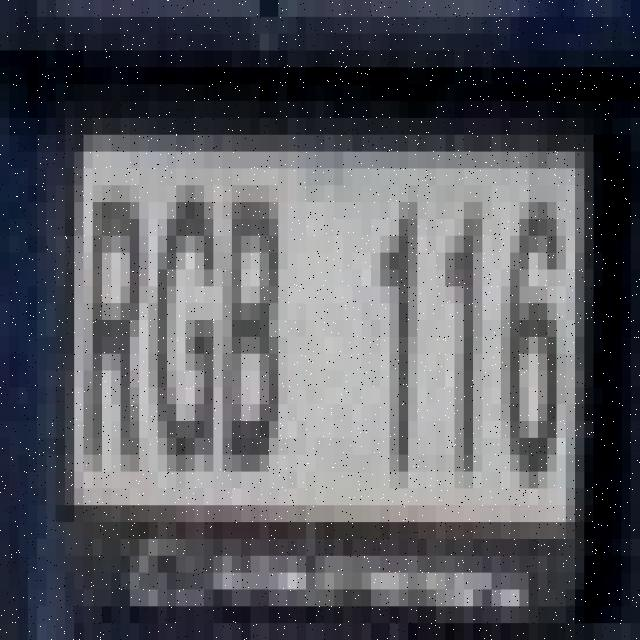licenseplate: (68, 76, 598, 544)
